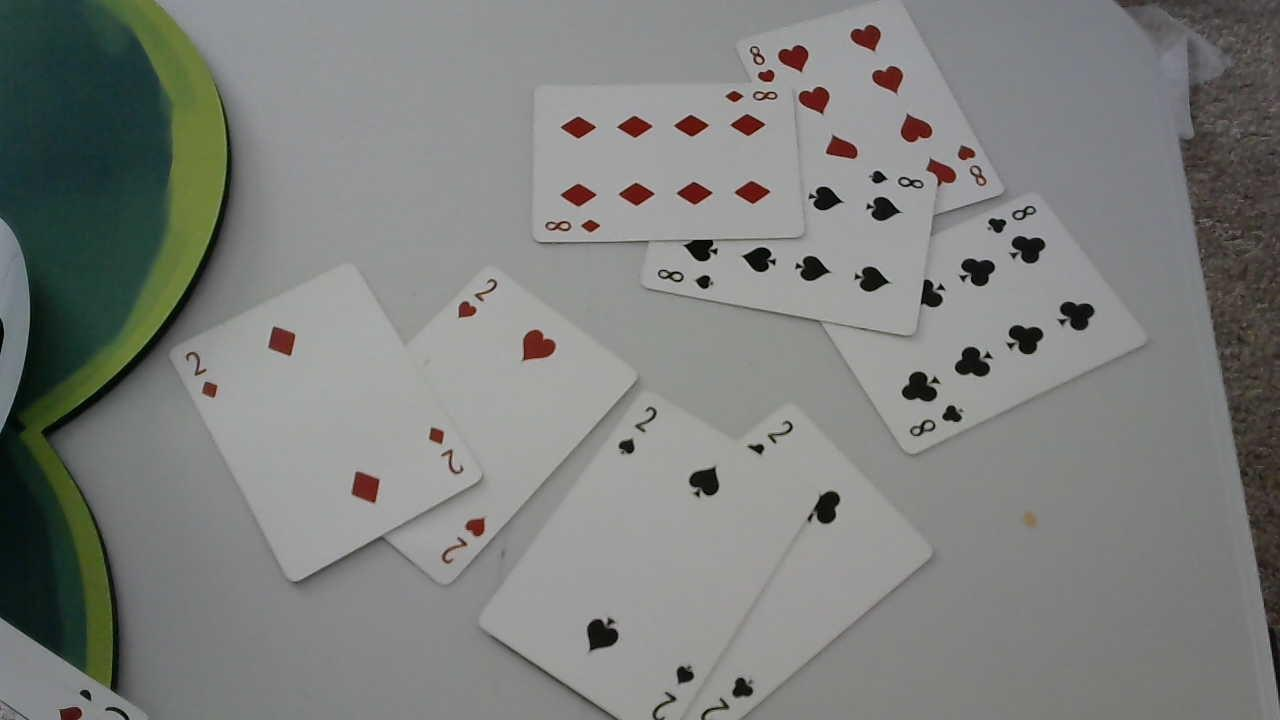2C: (697, 676, 763, 720)
2D: (429, 423, 470, 482)
2H: (437, 512, 491, 570), (456, 274, 499, 326)
2S: (646, 662, 700, 720), (618, 402, 660, 460)
8C: (906, 397, 967, 444), (983, 200, 1036, 239)
8D: (541, 217, 603, 238), (720, 87, 784, 107)
8H: (954, 139, 989, 189), (747, 42, 781, 82)
8S: (868, 163, 926, 194), (656, 266, 717, 294)
QD: (183, 346, 221, 403)
